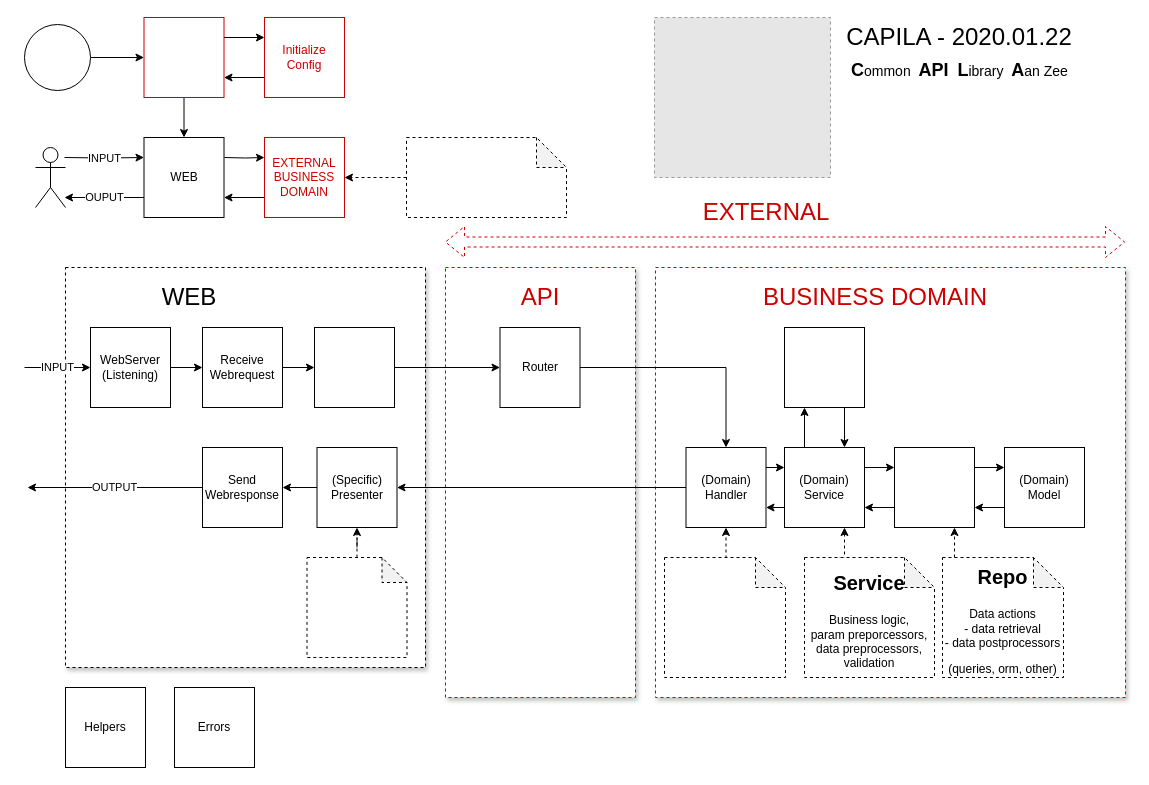
This 1149x785 diagram has some shape labels left out. Grey dashed boxes stand in for pictures. Each missing label, with the centre of its shape:
"(Domain) Repository" belongs at pixel 934 487.
"(Domain) Validation" belongs at pixel 824 367.
"Bootstrap" belongs at pixel 183 57.
"Client" belongs at pixel 50 177.
"Domain User / Hotel / Bird / Location" belongs at pixel 486 177.
"Handler Minimal code and minimal coupling between router output and service" belongs at pixel 725 617.
"Middleware (errors) (logging)" belongs at pixel 354 367.
"Output formats the output to specific needs" belongs at pixel 356 607.
